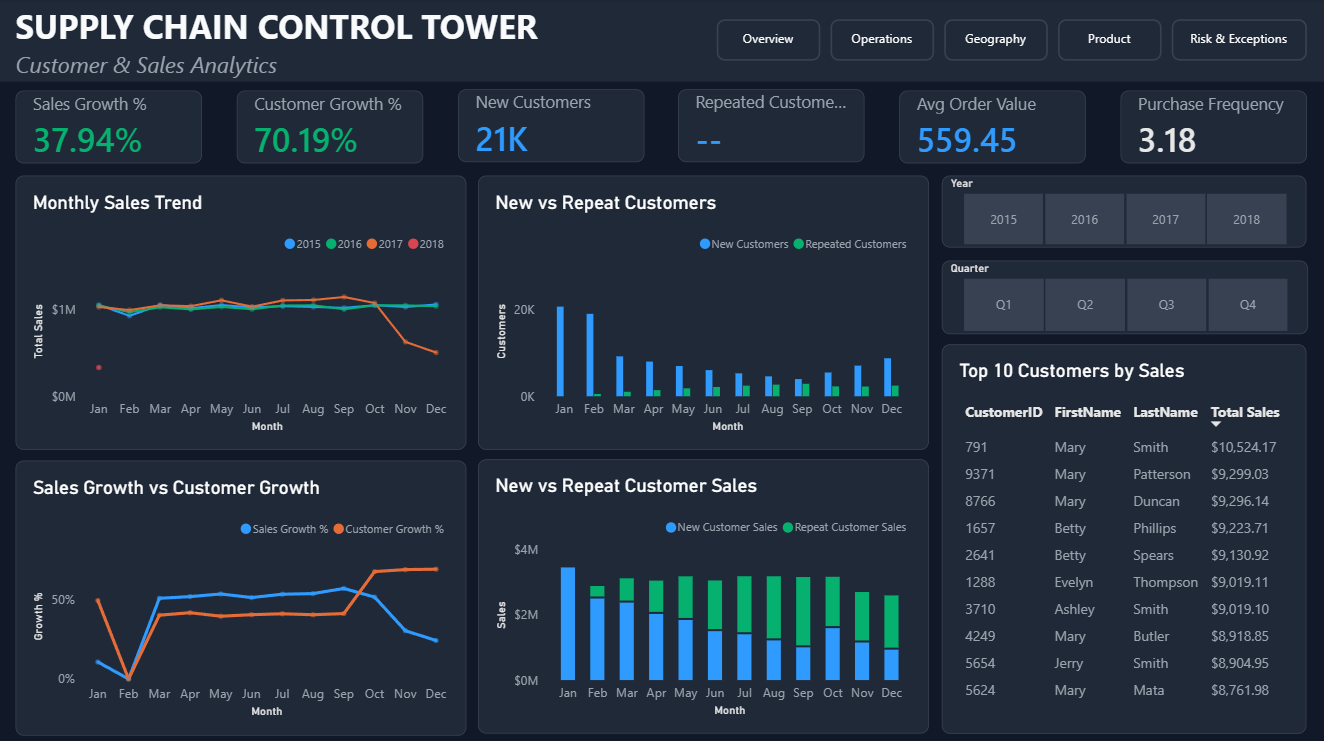

What the dashboard file says about the page in this screenshot:
{"tool":"powerbi","page":{"name":"Customer & Sales Analytics","canvas":[1280,720],"ordinal":3},"visuals":[{"type":"shape","box":[0,0,1920.7,80.8],"z":0},{"type":"textbox","box":[16.9,4.8,600,45],"z":1000},{"type":"textbox","box":[16.9,49.5,599.6,31.4],"z":2000},{"type":"cardVisual","fields":{"Data":["Dax_Measures.Sales Growth %"]},"box":[17.4,89.3,180,70],"z":3000},{"type":"cardVisual","fields":{"Data":["Dax_Measures.Customer Growth %"]},"box":[230.5,89.2,180,70],"z":4000},{"type":"slicer","fields":{"Values":["Dim_Date.Year"]},"box":[910.3,171.7,352.3,69.6],"z":5000},{"type":"cardVisual","fields":{"Data":["Dax_Measures.New Customers"]},"box":[443.7,88,180,70],"z":6000},{"type":"lineChart","title":"Monthly Sales Trend","fields":{"Category":["Dim_Date.Month Short"],"Y":["Dax_Measures.Total Sales"],"Series":["Dim_Date.Year"]},"box":[17.4,171,435,265],"z":7000},{"type":"clusteredColumnChart","title":"New vs Repeat Customers","fields":{"Category":["Dim_Date.Month Short"],"Y":["Dax_Measures.New Customers","Dax_Measures.Repeated Customers"]},"box":[463.3,171.7,435.2,264.9],"z":8000},{"type":"lineChart","title":"Sales Growth vs Customer Growth","fields":{"Category":["Dim_Date.Month Short"],"Y":["Dax_Measures.Sales Growth %","Dax_Measures.Customer Growth %"]},"box":[17.4,446.2,435,265.2],"z":9000},{"type":"columnChart","title":"New vs Repeat Customer Sales","fields":{"Category":["Dim_Date.Month Short"],"Y":["Dax_Measures.New Customer Sales","Dax_Measures.Repeat Customer Sales"]},"box":[463.3,445.5,435,265],"z":10000},{"type":"tableEx","title":"Top 10 Customers by Sales","fields":{"Values":["Dim_Customer.CustomerID","Dim_Customer.FirstName","Dim_Customer.LastName","Dax_Measures.Total Sales"]},"box":[910.3,334.5,352.3,375.9],"z":11000},{"type":"cardVisual","fields":{"Data":["Dax_Measures.Repeated Customers"]},"box":[656.9,88,180,70],"z":12000},{"type":"cardVisual","fields":{"Data":["Dax_Measures.Avg Order Value"]},"box":[870,89.2,180,70],"z":13000},{"type":"cardVisual","fields":{"Data":["Dax_Measures.Average Purchase Frequency"]},"box":[1083.2,89.2,180,70],"z":14000},{"type":"slicer","fields":{"Values":["Dim_Date.Quarter"]},"box":[910.3,253.1,353.7,71],"z":15000},{"type":"actionButton","box":[693.1,20.5,100,40],"z":16000},{"type":"actionButton","box":[803.1,20.5,100,40],"z":17000},{"type":"actionButton","box":[913,20.5,100,40],"z":18000},{"type":"actionButton","box":[1022.9,20.5,100,40],"z":20000},{"type":"actionButton","box":[1132.8,20.5,130,40],"z":21000}]}

Visuals, with their boxes in screenshot pixels (x1, y1, x2, y2), scaled from the page's 1280x720 canvas onto the 1324x741 screenshot:
shape: x1=0 y1=0 x2=1323 y2=83
textbox: x1=17 y1=5 x2=638 y2=51
textbox: x1=17 y1=51 x2=638 y2=83
cardVisual - Dax_Measures.Sales Growth %: x1=18 y1=92 x2=204 y2=164
cardVisual - Dax_Measures.Customer Growth %: x1=238 y1=92 x2=425 y2=164
slicer - Dim_Date.Year: x1=942 y1=177 x2=1306 y2=248
cardVisual - Dax_Measures.New Customers: x1=459 y1=91 x2=645 y2=163
"Monthly Sales Trend" lineChart: x1=18 y1=176 x2=468 y2=449
"New vs Repeat Customers" clusteredColumnChart: x1=479 y1=177 x2=929 y2=449
"Sales Growth vs Customer Growth" lineChart: x1=18 y1=459 x2=468 y2=732
"New vs Repeat Customer Sales" columnChart: x1=479 y1=458 x2=929 y2=731
"Top 10 Customers by Sales" tableEx: x1=942 y1=344 x2=1306 y2=731
cardVisual - Dax_Measures.Repeated Customers: x1=679 y1=91 x2=866 y2=163
cardVisual - Dax_Measures.Avg Order Value: x1=900 y1=92 x2=1086 y2=164
cardVisual - Dax_Measures.Average Purchase Frequency: x1=1120 y1=92 x2=1307 y2=164
slicer - Dim_Date.Quarter: x1=942 y1=260 x2=1307 y2=334
actionButton: x1=717 y1=21 x2=820 y2=62
actionButton: x1=831 y1=21 x2=934 y2=62
actionButton: x1=944 y1=21 x2=1048 y2=62
actionButton: x1=1058 y1=21 x2=1161 y2=62
actionButton: x1=1172 y1=21 x2=1306 y2=62
